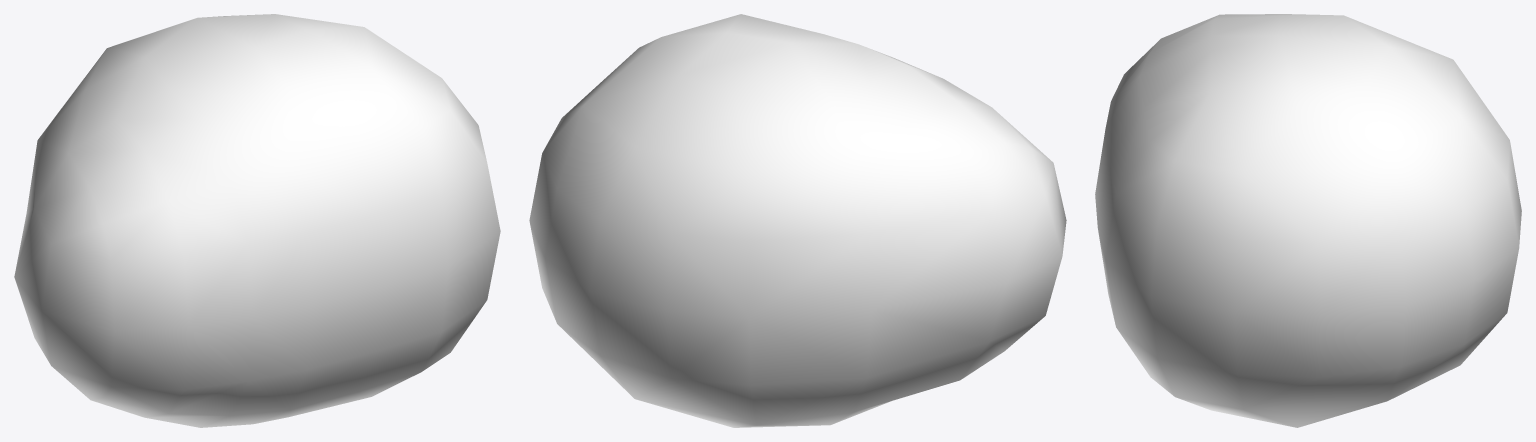
The model's file is Head7.fbx.
The picture shows the model from 3 angles, left to right: view 1: azimuth 30°, elevation 25°; view 2: azimuth 150°, elevation 25°; view 3: azimuth 270°, elevation 25°; orthographic projection. The views are drawn at different scales.
Visible parts, largest first — view 1: Mesh_0004.rip.002_Mesh_0004.rip_mesh0000.002; view 2: Mesh_0004.rip.002_Mesh_0004.rip_mesh0000.002; view 3: Mesh_0004.rip.002_Mesh_0004.rip_mesh0000.002.
Boxes of the visible parts, <box> form: Mesh_0004.rip.002_Mesh_0004.rip_mesh0000.002: <box>14,14,500,427</box>; Mesh_0004.rip.002_Mesh_0004.rip_mesh0000.002: <box>529,14,1066,427</box>; Mesh_0004.rip.002_Mesh_0004.rip_mesh0000.002: <box>1095,14,1521,427</box>.
Size of the model in its own units: 7.12 by 5.26 by 5.81.
Materials: 1 (1 with a texture image).
